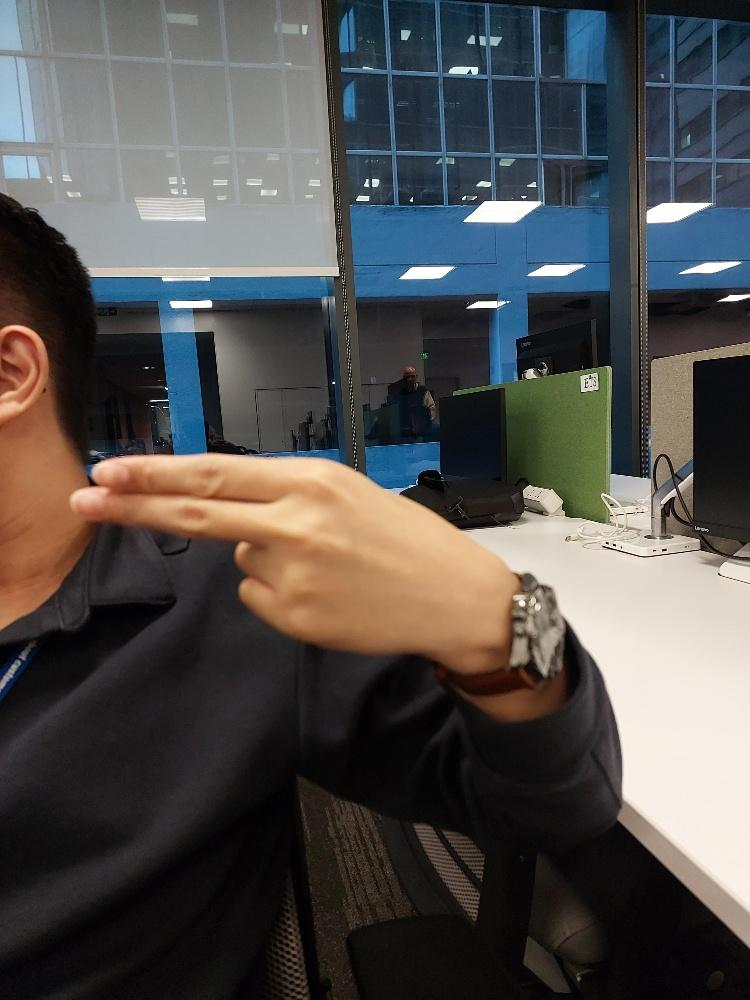h: (65, 449, 448, 652)
